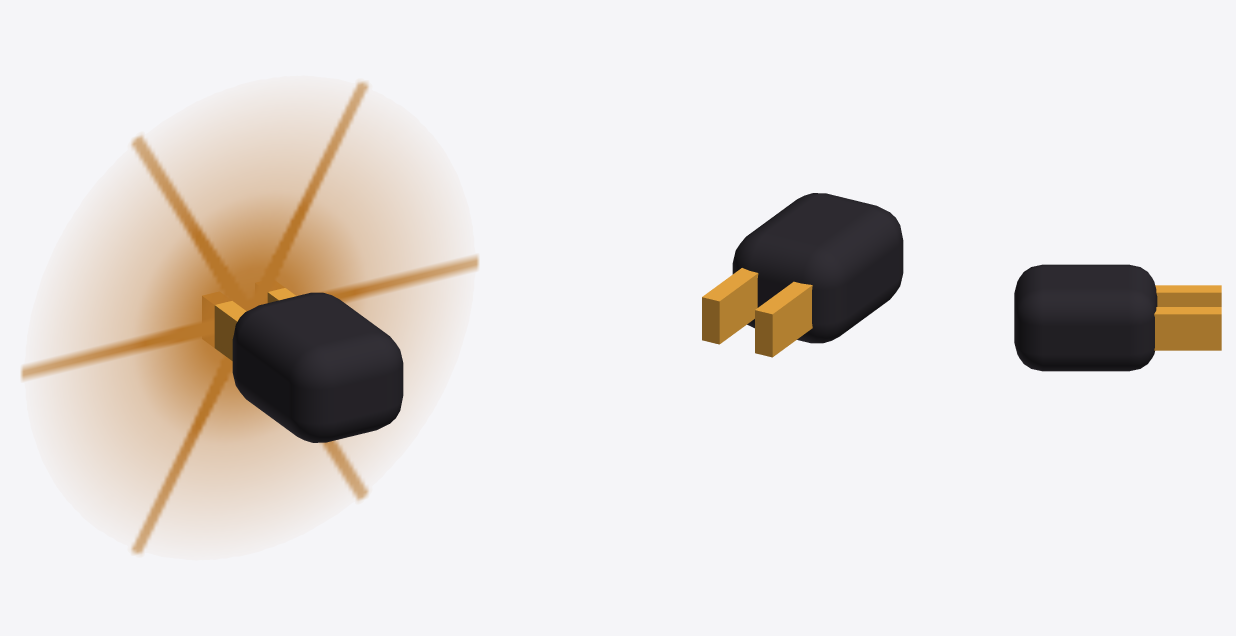
File: bs_plug.glb
The picture shows the model from 3 angles, left to right: view 1: azimuth 30°, elevation 25°; view 2: azimuth 150°, elevation 25°; view 3: azimuth 270°, elevation 25°; orthographic projection. The views are drawn at different scales.
Visible parts, largest first — view 1: bs_halo, bs_plugBody, bs_prongs; view 2: bs_plugBody, bs_prongs; view 3: bs_plugBody, bs_prongs.
Part boxes in pixels (<box>): bs_halo: <box>21,81,478,554</box>; bs_plugBody: <box>232,292,403,442</box>; bs_prongs: <box>202,288,296,360</box>; bs_plugBody: <box>732,193,903,343</box>; bs_prongs: <box>702,268,812,357</box>; bs_plugBody: <box>1014,264,1157,371</box>; bs_prongs: <box>1154,285,1221,350</box>.
Size of the model in its own units: 0.32 by 0.32 by 0.145.
3 materials, 1 textured.
